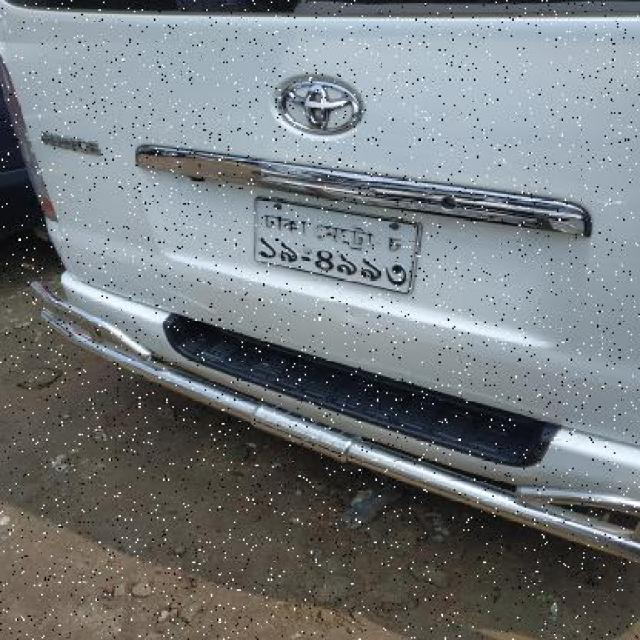numberplate: (251, 194, 420, 294)
